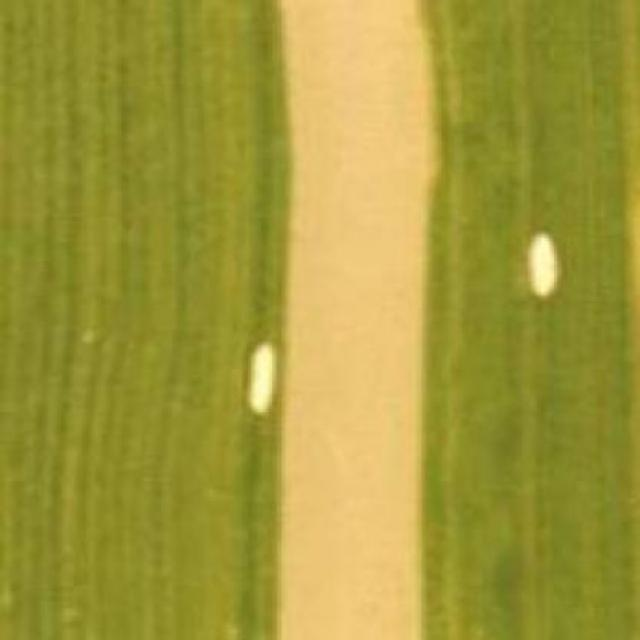whorl-maggot: (240, 337, 282, 425), (525, 224, 566, 304)
